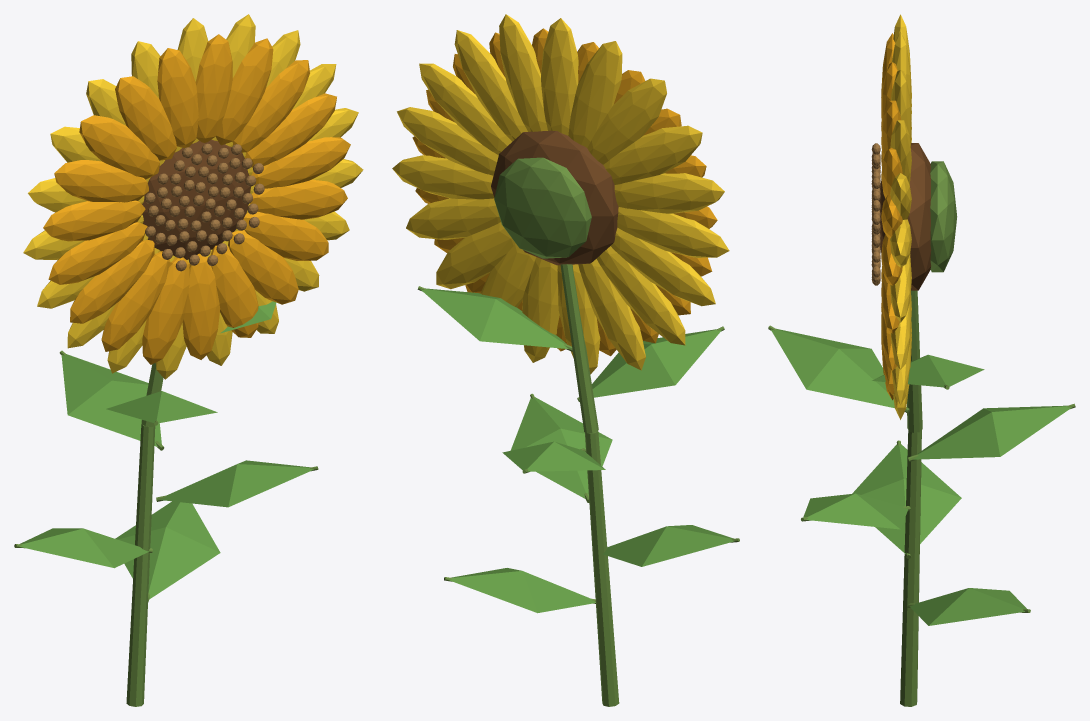
The model's file is sunflower-3.glb.
3 renders of one model, left to right at view 1: azimuth 30°, elevation 25°; view 2: azimuth 150°, elevation 25°; view 3: azimuth 270°, elevation 25°, orthographic. The views are drawn at different scales.
Parts seen in each view (by area): view 1: sunflower-3; view 2: sunflower-3; view 3: sunflower-3.
Boxes of the visible parts, <box> form: sunflower-3: <box>14,14,363,706</box>; sunflower-3: <box>392,14,739,706</box>; sunflower-3: <box>768,14,1075,706</box>.
Size of the model in its own units: 1.29 by 2.38 by 0.9504.
